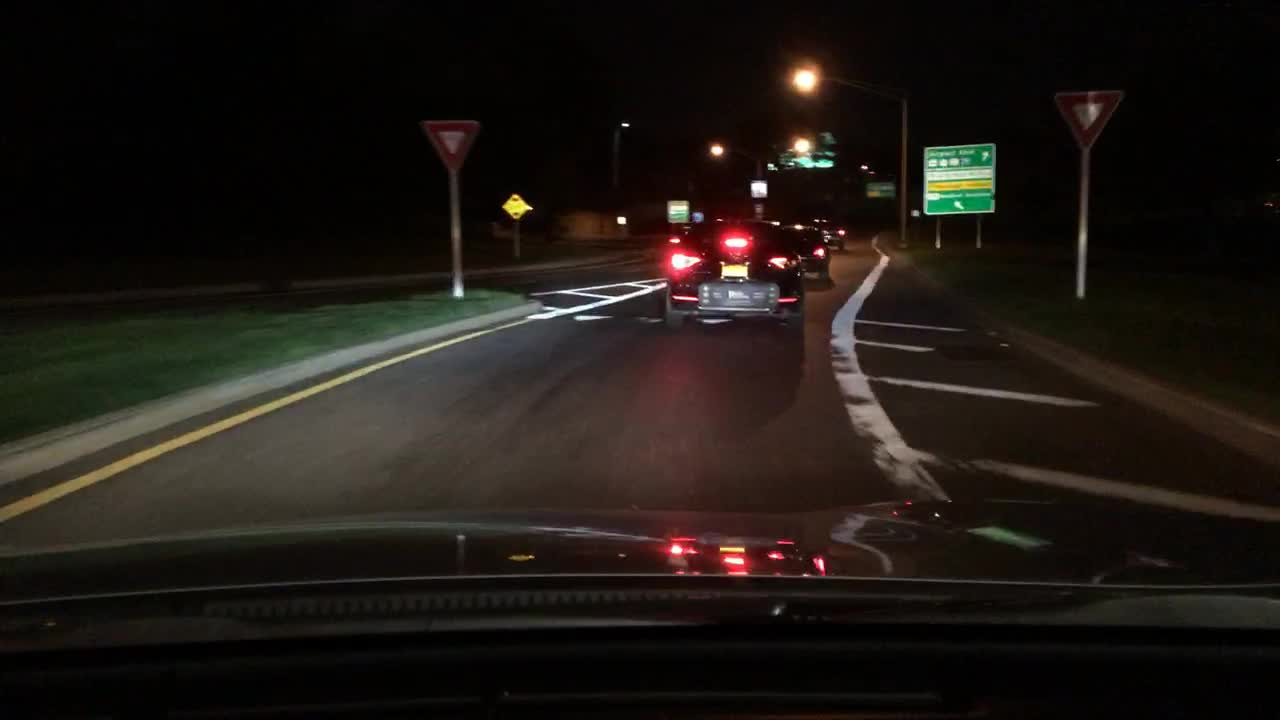car: (664, 216, 808, 332), (786, 221, 829, 277), (815, 220, 848, 248)
traffic sign: (922, 143, 996, 216), (1054, 90, 1120, 143), (423, 119, 480, 168), (498, 195, 532, 220), (865, 184, 897, 197), (750, 180, 767, 199)
